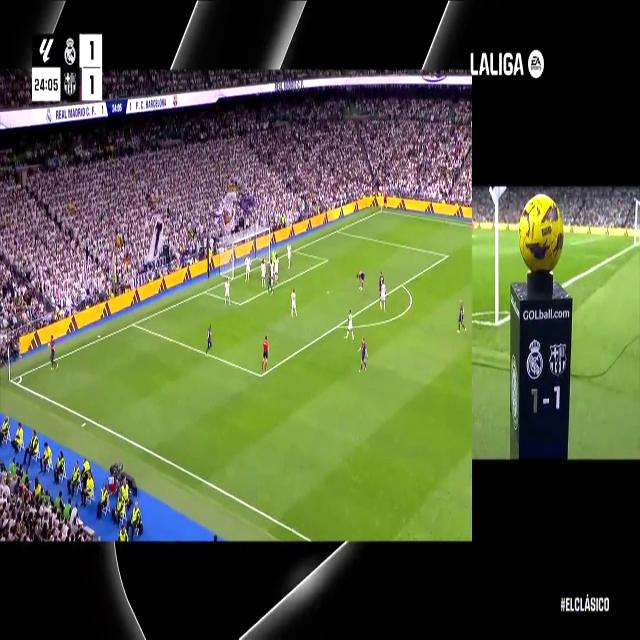bigarea_bottom_inner: (257, 366, 265, 384)
bigarea_top_inner: (442, 248, 450, 262)
bigarea_top_outter: (335, 225, 341, 235)
bottom_arc_area_intersection: (334, 318, 343, 332)
midline_bottom_intersection: (490, 300, 504, 329)
smallarea_bottom_inner: (237, 297, 244, 310)
smallarea_bottom_outter: (203, 285, 209, 296)
smallarea_top_inner: (324, 256, 328, 264)
top_arc_area_intersection: (399, 277, 405, 290)
